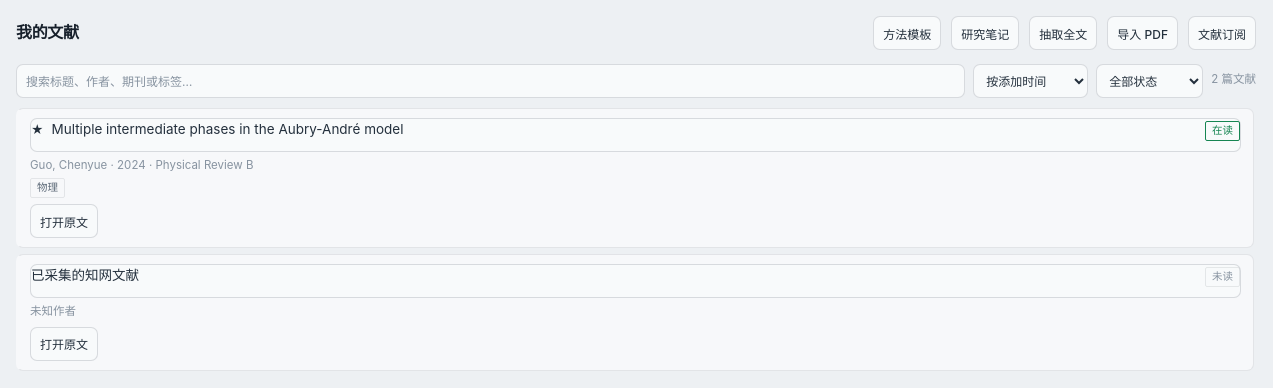
LibraryPage — 我的文献 › 阅读状态筛选只显示对应条目
Select "在读" in the dropdown with test id "library-status-select" at (1150, 81), box [1096, 64, 1203, 98]
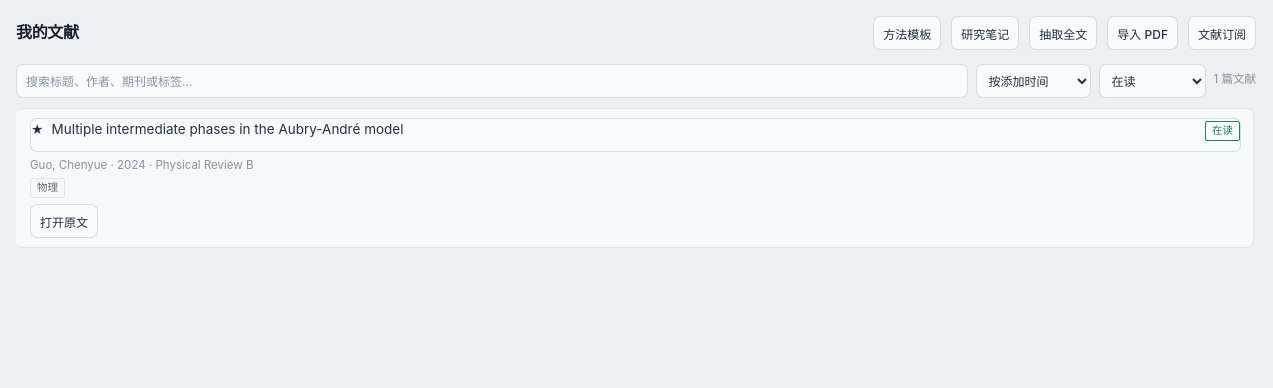
Check: the text "Multiple intermediate phases in the Aubry-André model" is shown, box [52, 121, 403, 137]
Check: the number of list items with test id "library-paper-item" is 1, box [16, 108, 1254, 248]
